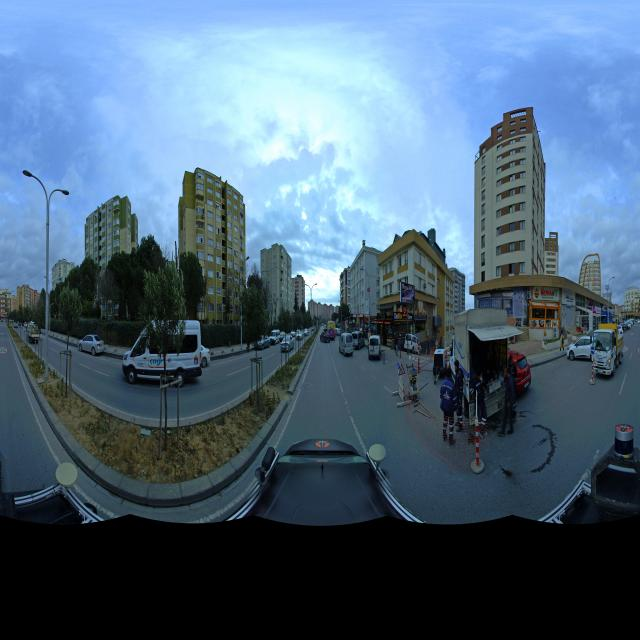SignStore: (533, 287, 559, 301), (563, 289, 575, 305), (394, 312, 402, 320), (592, 306, 601, 313), (357, 314, 363, 317), (612, 309, 615, 315), (609, 308, 612, 313), (353, 314, 357, 317), (604, 308, 607, 312)
